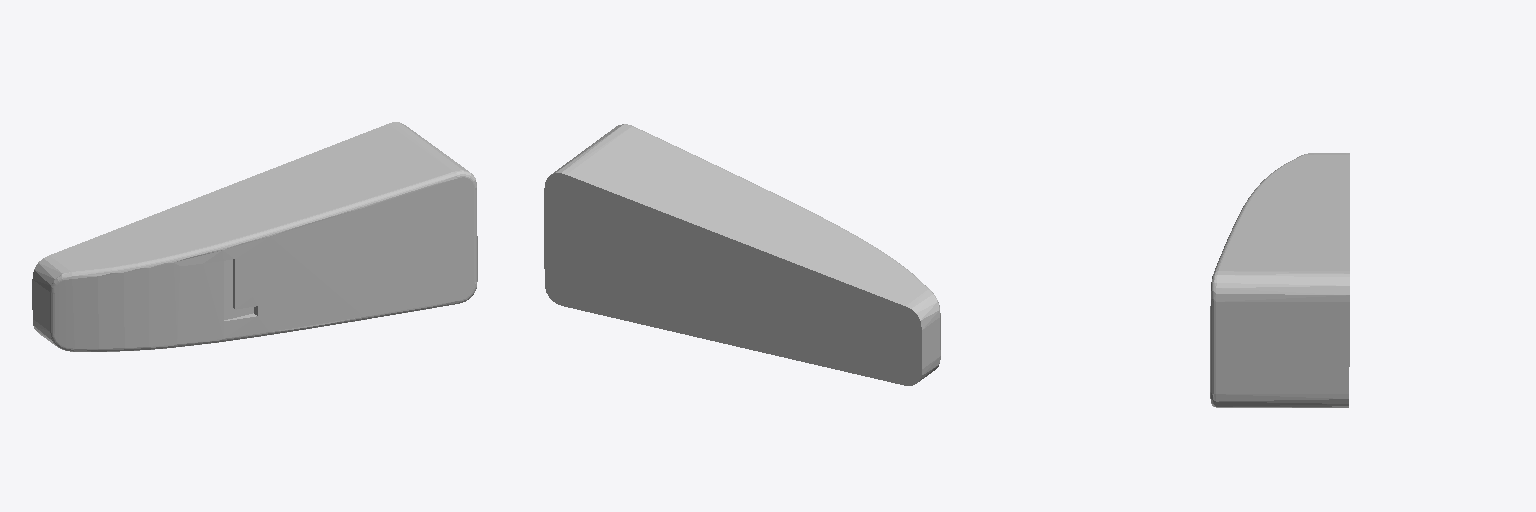
File: LeftShoulder.obj
3 views of the same model, side by side, from view 1: azimuth 30°, elevation 25°; view 2: azimuth 150°, elevation 25°; view 3: azimuth 270°, elevation 25° (orthographic).
Parts seen in each view (by area): view 1: LeftShoulder; view 2: LeftShoulder; view 3: LeftShoulder.
Part boxes in pixels (bbox=[...]): LeftShoulder: bbox=[32, 122, 477, 351]; LeftShoulder: bbox=[544, 124, 940, 385]; LeftShoulder: bbox=[1210, 153, 1349, 407].
Size of the model in its own units: 39.09 by 13.14 by 12.49.